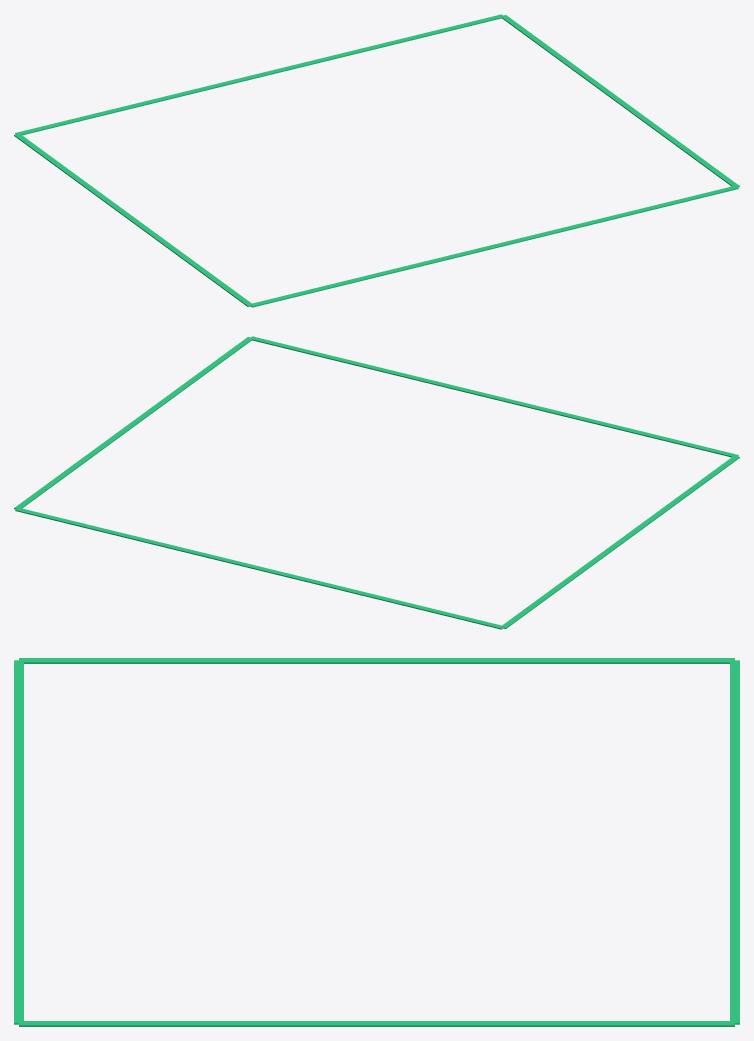
File: CC_S16_P2_Architecture_ZoneCheckout_LOD0.fbx
3 views of the same model, one above another, from view 1: azimuth 30°, elevation 25°; view 2: azimuth 150°, elevation 25°; view 3: azimuth 270°, elevation 25° (orthographic). The views are drawn at different scales.
Parts seen in each view (by area): view 1: CC_S16_P2_Architecture_ZoneCheckout_LOD0_Line, CC_S16_P2_Architecture_ZoneCheckout_LOD0_Line.001, CC_S16_P2_Architecture_ZoneCheckout_LOD0_Line.002, CC_S16_P2_Architecture_ZoneCheckout_LOD0_Line.003; view 2: CC_S16_P2_Architecture_ZoneCheckout_LOD0_Line.001, CC_S16_P2_Architecture_ZoneCheckout_LOD0_Line, CC_S16_P2_Architecture_ZoneCheckout_LOD0_Line.002, CC_S16_P2_Architecture_ZoneCheckout_LOD0_Line.003; view 3: CC_S16_P2_Architecture_ZoneCheckout_LOD0_Line.003, CC_S16_P2_Architecture_ZoneCheckout_LOD0_Line.002, CC_S16_P2_Architecture_ZoneCheckout_LOD0_Line, CC_S16_P2_Architecture_ZoneCheckout_LOD0_Line.001.
Boxes of the visible parts, x1,y1,x2,y2 form: CC_S16_P2_Architecture_ZoneCheckout_LOD0_Line: (250, 185, 738, 307); CC_S16_P2_Architecture_ZoneCheckout_LOD0_Line.001: (15, 14, 504, 135); CC_S16_P2_Architecture_ZoneCheckout_LOD0_Line.002: (14, 133, 252, 306); CC_S16_P2_Architecture_ZoneCheckout_LOD0_Line.003: (501, 15, 739, 187); CC_S16_P2_Architecture_ZoneCheckout_LOD0_Line.001: (15, 507, 503, 629); CC_S16_P2_Architecture_ZoneCheckout_LOD0_Line: (249, 336, 738, 457); CC_S16_P2_Architecture_ZoneCheckout_LOD0_Line.002: (500, 456, 739, 628); CC_S16_P2_Architecture_ZoneCheckout_LOD0_Line.003: (14, 337, 252, 509); CC_S16_P2_Architecture_ZoneCheckout_LOD0_Line.003: (19, 1021, 734, 1026); CC_S16_P2_Architecture_ZoneCheckout_LOD0_Line.002: (19, 658, 734, 663); CC_S16_P2_Architecture_ZoneCheckout_LOD0_Line: (14, 660, 23, 1024); CC_S16_P2_Architecture_ZoneCheckout_LOD0_Line.001: (730, 660, 739, 1024).
Size of what is drawn, in the model's own units: 3.04 by 0.006 by 2.54.
